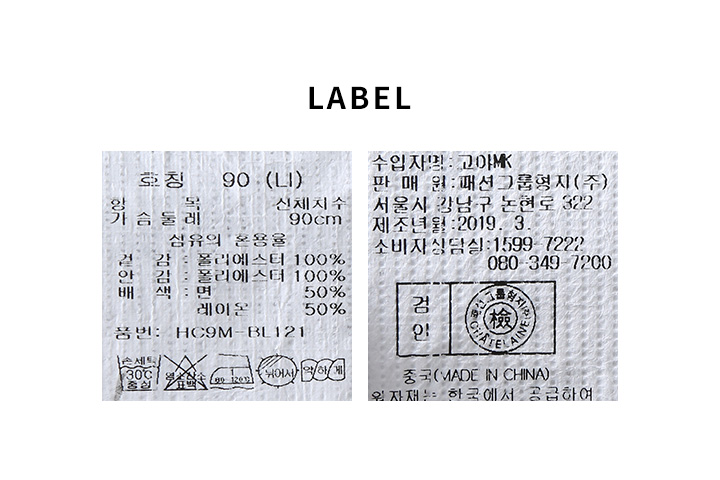KR_flat_dry_in_shade: (257, 351, 299, 390)
KR_gentle_wring: (300, 350, 349, 390)
KR_hand_wash_30_neutral: (114, 350, 163, 394)
KR_iron_low_temp_with_cloth: (209, 351, 256, 393)
KR_no_bleach: (163, 352, 208, 395)
